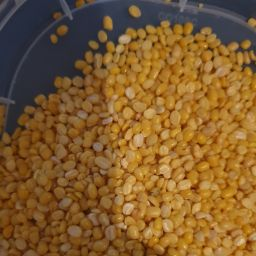Red Split Lentils(malka masar): (23, 34, 247, 256), (72, 60, 256, 256), (131, 101, 218, 205)
